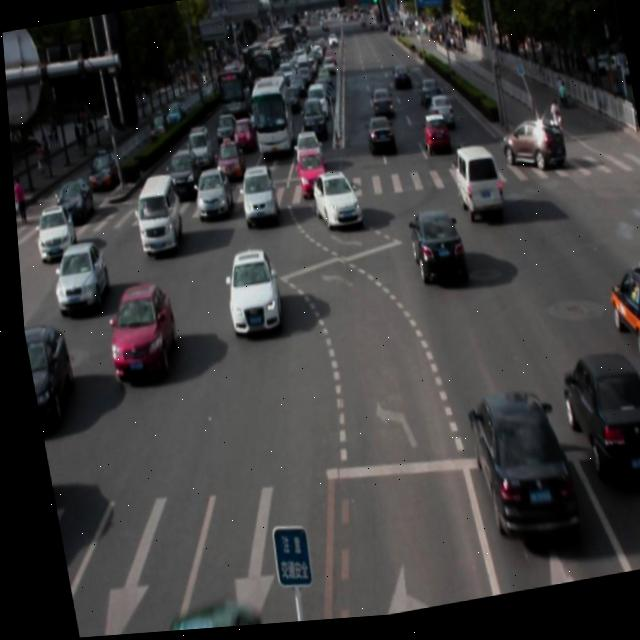car: (458, 386, 573, 553), (552, 352, 640, 492), (97, 278, 176, 381), (214, 248, 280, 341), (403, 211, 463, 294), (143, 596, 254, 634), (601, 269, 640, 367), (305, 170, 359, 238), (231, 163, 275, 231), (187, 168, 232, 228)
truck: (125, 171, 183, 258), (447, 147, 501, 227)
